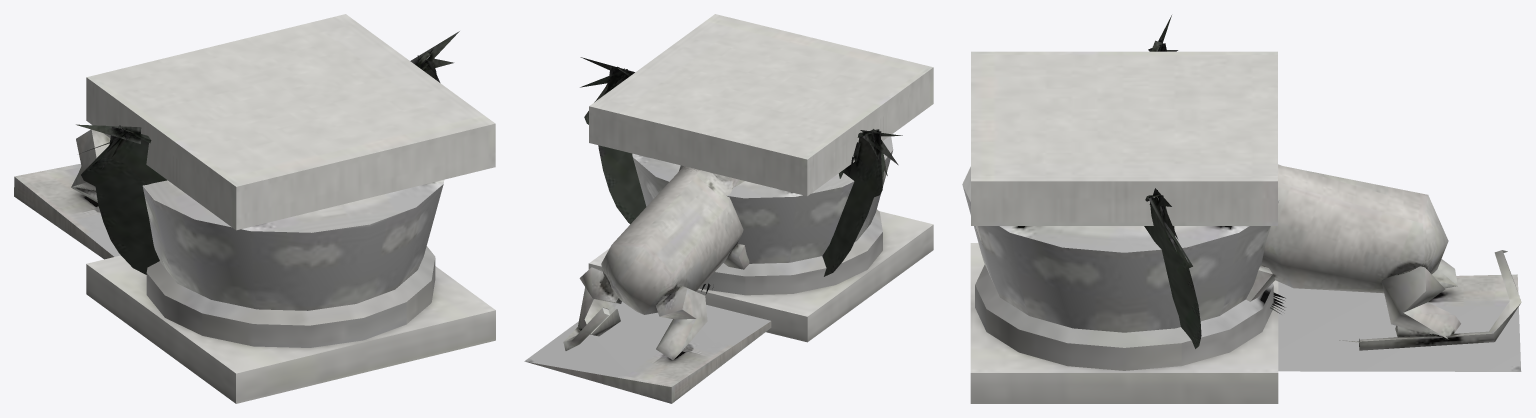
The model's file is kit_landmark.glb.
3 views of the same model, side by side, from view 1: azimuth 30°, elevation 25°; view 2: azimuth 150°, elevation 25°; view 3: azimuth 270°, elevation 25° (orthographic). The views are drawn at different scales.
Parts seen in each view (by area): view 1: capital, columnBase, eagle, lion; view 2: capital, lion, columnBase, eagle; view 3: capital, lion, columnBase, eagle.
Part boxes in pixels (x1,y1,x2,y2): capital: [86, 14, 495, 310]; columnBase: [86, 246, 495, 403]; eagle: [76, 31, 459, 274]; lion: [14, 129, 120, 259]; capital: [589, 14, 933, 263]; lion: [524, 165, 771, 403]; columnBase: [588, 209, 933, 342]; eagle: [580, 57, 902, 294]; capital: [962, 51, 1278, 332]; lion: [1246, 164, 1521, 371]; columnBase: [970, 243, 1278, 403]; eagle: [1144, 15, 1285, 348].
Bounding box in the file's own units: 2.14 × 1.34 × 2.62.
1 material, 1 textured.
